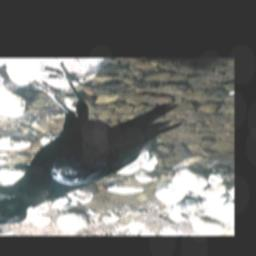Crow: (0, 62, 182, 227)
